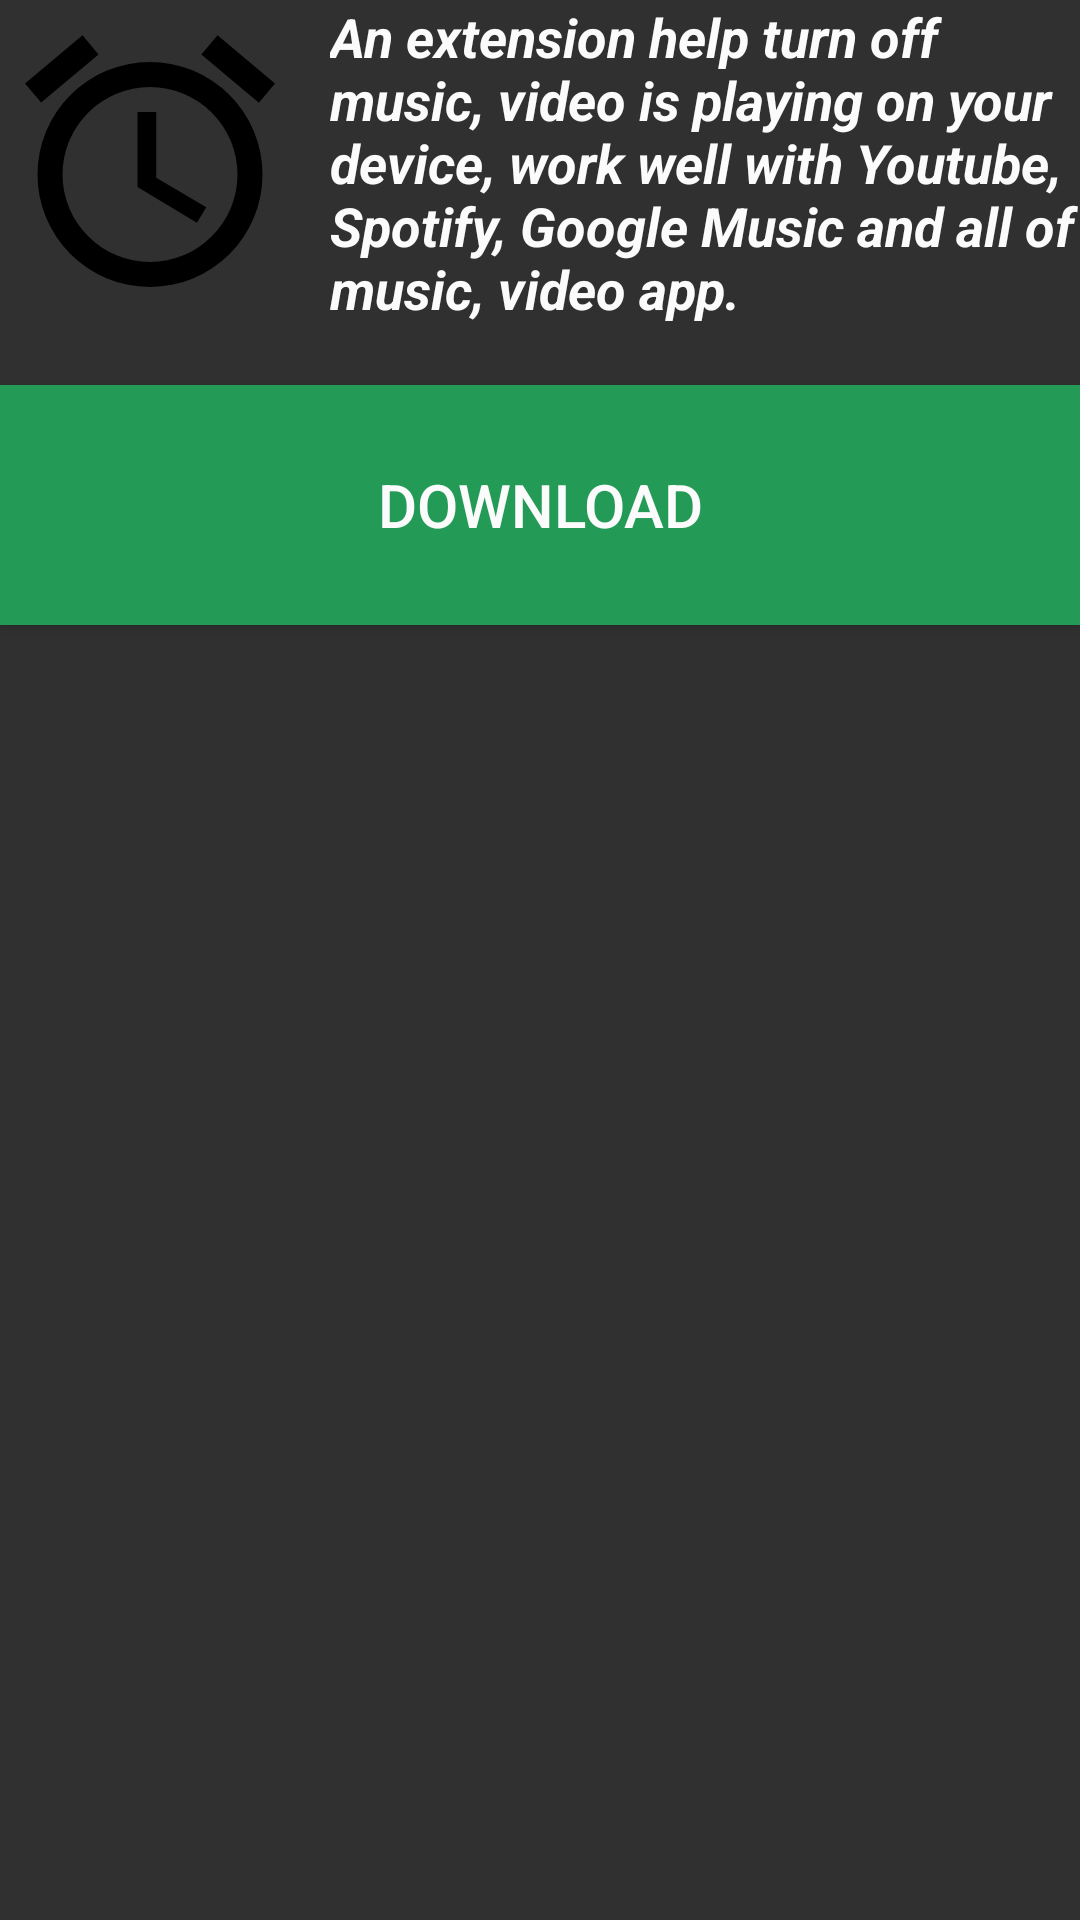

Locate icon controls on the screen. Image size 1080w x 1920h, boxes as (x1, y1, x2, y2).
alarm: (25, 35, 275, 287)
